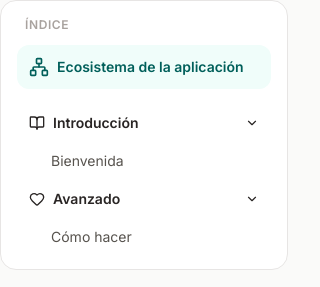
Test case: ManualSidebar › toggles only the clicked section, not others
Click the button "Introducción".
click(144, 123)  # box [17, 105, 271, 141]
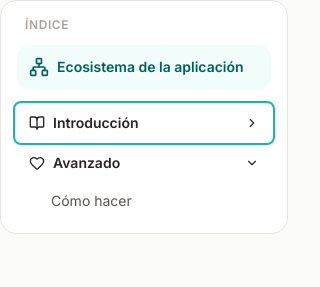
expect the link "Cómo hacer" is shown: met, box [51, 192, 132, 209]
expect the link "Bienvenida" is gone: met
